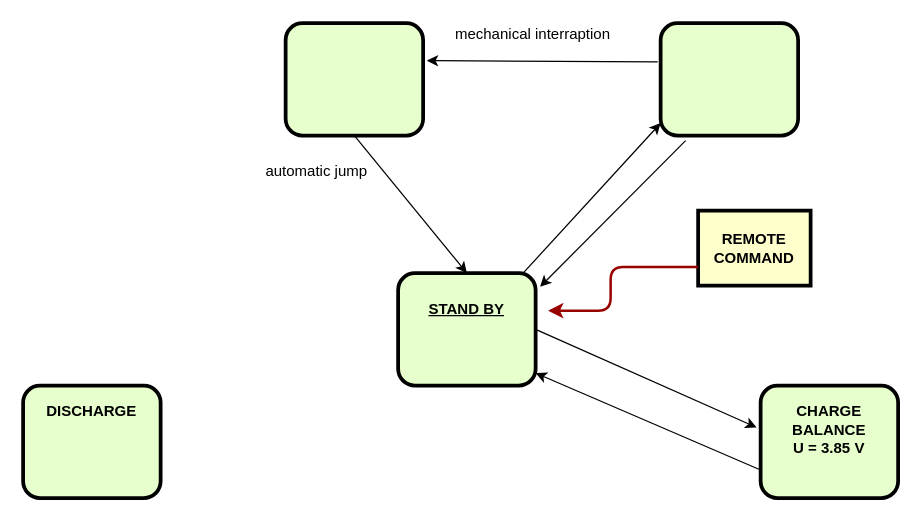
Image size: 921x521. Some labels were removed from this diagram. Here are the shapes that lost their labels. From the top down, the centre of each, then its label:
At (353,79): "INTERRUPT FAST CHARGE".
At (728,79): "FAST CHARGE U = 4.2 V".
